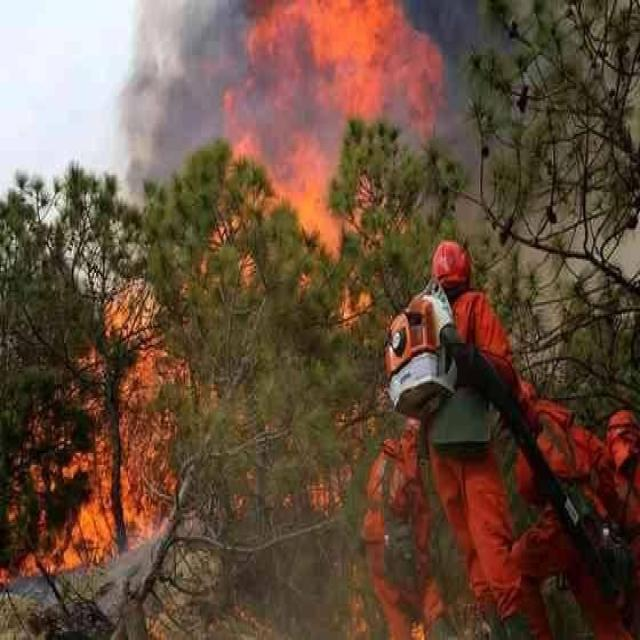fire: (192, 6, 440, 258), (10, 289, 198, 586), (293, 443, 348, 511), (330, 255, 376, 329), (231, 250, 260, 288), (284, 264, 317, 296)
other: (359, 236, 638, 624)
